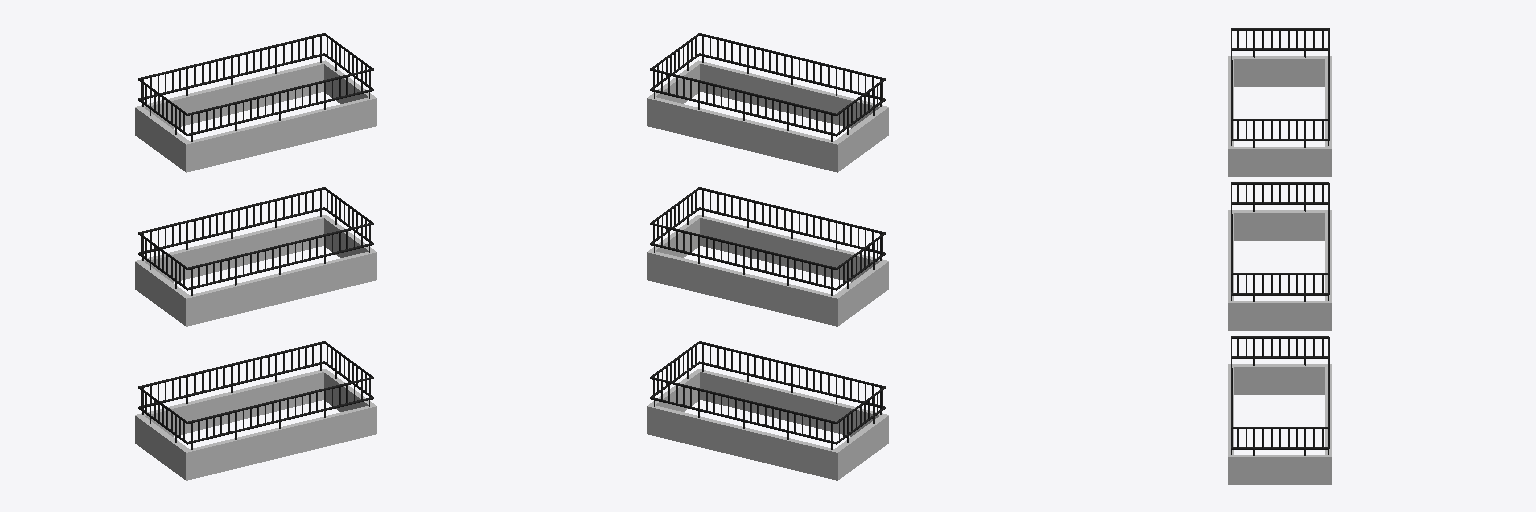
File: balcones_3.obj
The picture shows the model from 3 angles: view 1: azimuth 30°, elevation 25°; view 2: azimuth 150°, elevation 25°; view 3: azimuth 270°, elevation 25°; orthographic projection.
Visible parts, largest first — view 1: Borde_barrotes.001_Cube.008; view 2: Borde_barrotes.001_Cube.008; view 3: Borde_barrotes.001_Cube.008.
Part boxes in pixels (left/top/right/bottom): Borde_barrotes.001_Cube.008: left=135, top=33, right=376, bottom=480; Borde_barrotes.001_Cube.008: left=647, top=33, right=888, bottom=480; Borde_barrotes.001_Cube.008: left=1228, top=28, right=1331, bottom=484.
Bounding box in the file's own units: 7.14 × 13.05 × 3.33.